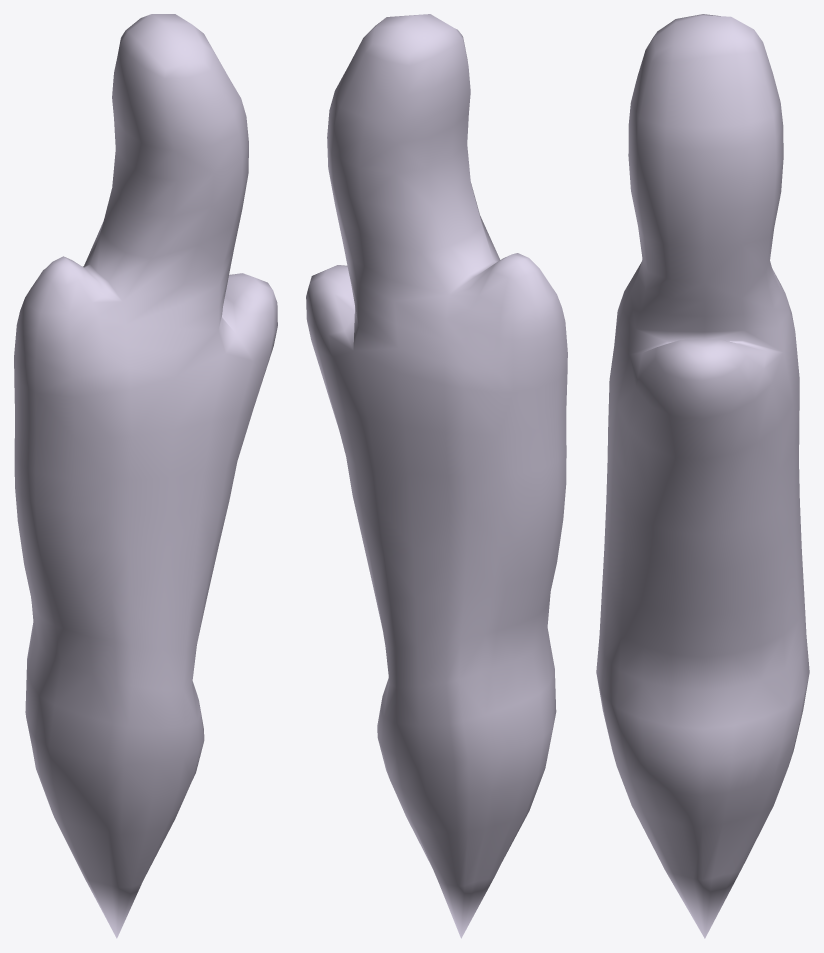
File: Bush_05.fbx
3 views of the same model, side by side, from view 1: azimuth 30°, elevation 25°; view 2: azimuth 150°, elevation 25°; view 3: azimuth 270°, elevation 25° (orthographic). The views are drawn at different scales.
Visible parts, largest first — view 1: Bush_05; view 2: Bush_05; view 3: Bush_05.
Part boxes in pixels (x1,y1,x2,y2): Bush_05: [14, 14, 277, 938]; Bush_05: [306, 14, 567, 938]; Bush_05: [596, 14, 809, 938].
Size of the model in its own units: 234 by 813 by 166.
